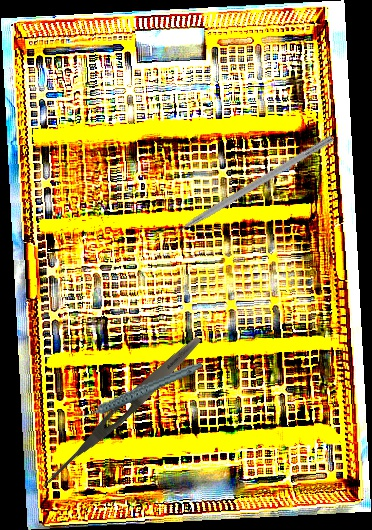Chopper: (154, 126, 335, 244)
Dressing Forceps: (37, 331, 206, 495)
Handpiece: (71, 360, 208, 420)
